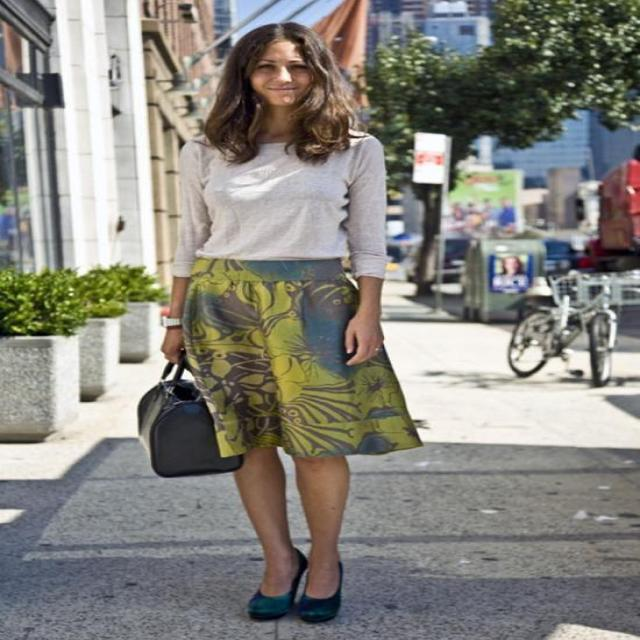Tshirt: (172, 127, 388, 278)
skirt: (183, 256, 424, 457)
